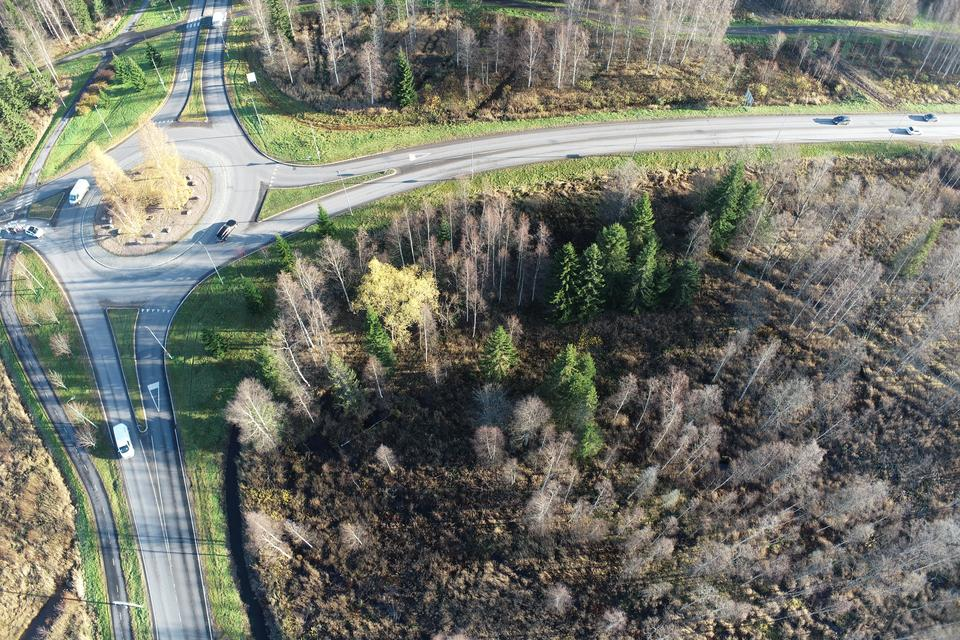intersection: (0, 159, 39, 278), (172, 7, 260, 45)
roundabout: (44, 60, 343, 344)
